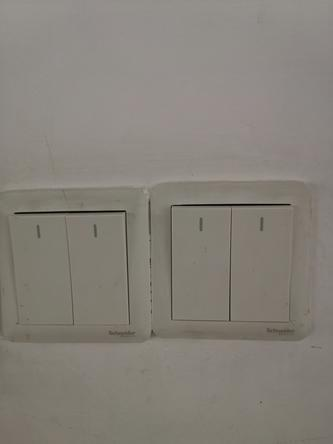switch: (61, 206, 138, 331), (4, 207, 79, 328), (226, 199, 297, 325), (167, 199, 235, 327)
